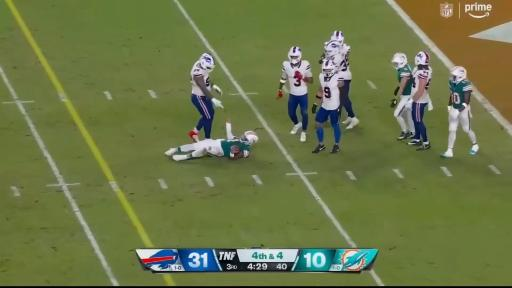Helmet: (324, 40, 341, 57), (200, 54, 215, 73), (451, 66, 467, 83), (392, 53, 407, 69), (241, 131, 258, 145), (322, 60, 335, 77), (288, 47, 301, 64), (330, 30, 344, 45), (415, 52, 429, 65)
Jersey: (282, 60, 312, 95), (319, 72, 343, 110), (412, 67, 432, 103), (191, 61, 210, 96), (450, 80, 472, 109), (398, 64, 413, 96), (221, 140, 249, 157), (339, 43, 351, 79), (326, 54, 343, 71)
Player: (165, 121, 258, 161), (441, 67, 478, 157), (278, 47, 313, 141), (312, 60, 346, 153), (189, 54, 223, 142), (331, 31, 359, 129), (407, 52, 432, 150), (391, 53, 415, 140)
